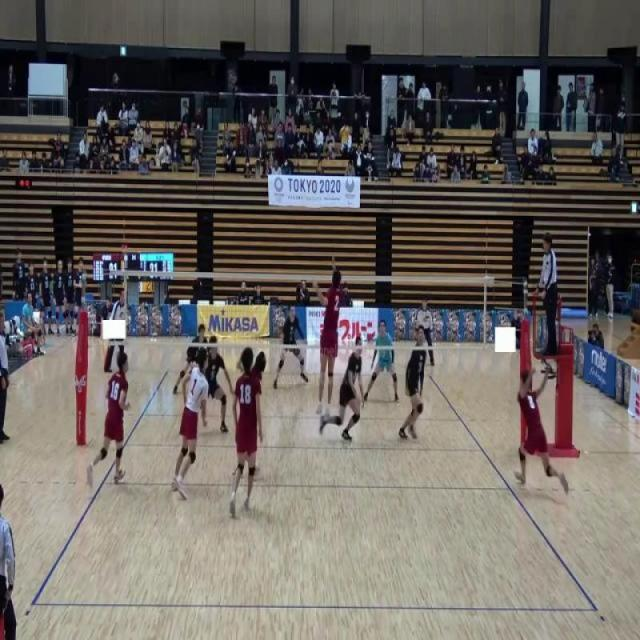volleyball: (339, 124, 351, 143)
